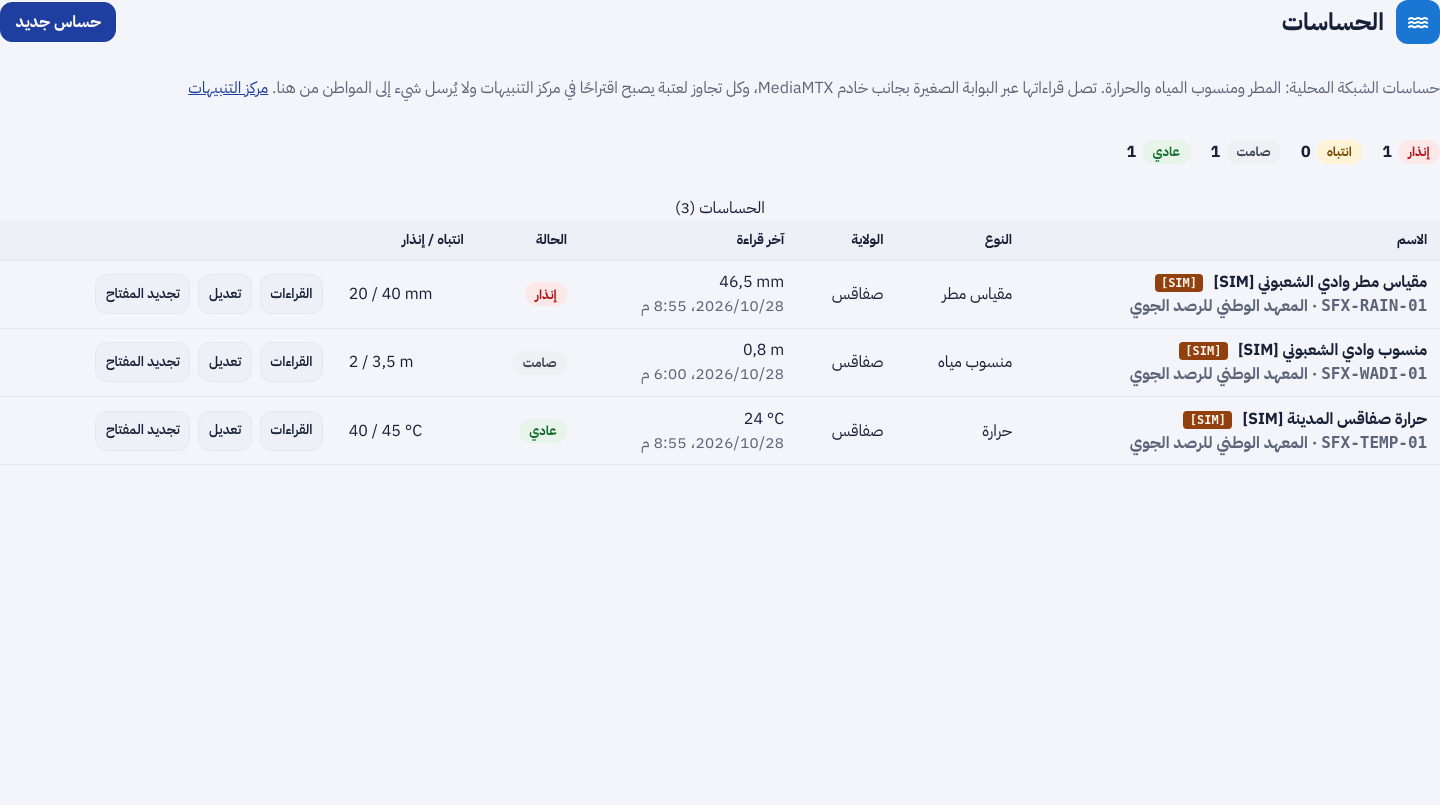
SensorsPage › refuses an alarm threshold below the watch threshold
Click the button "حساس جديد" at {"x": 58, "y": 22}, box 0,2 -> 116,42
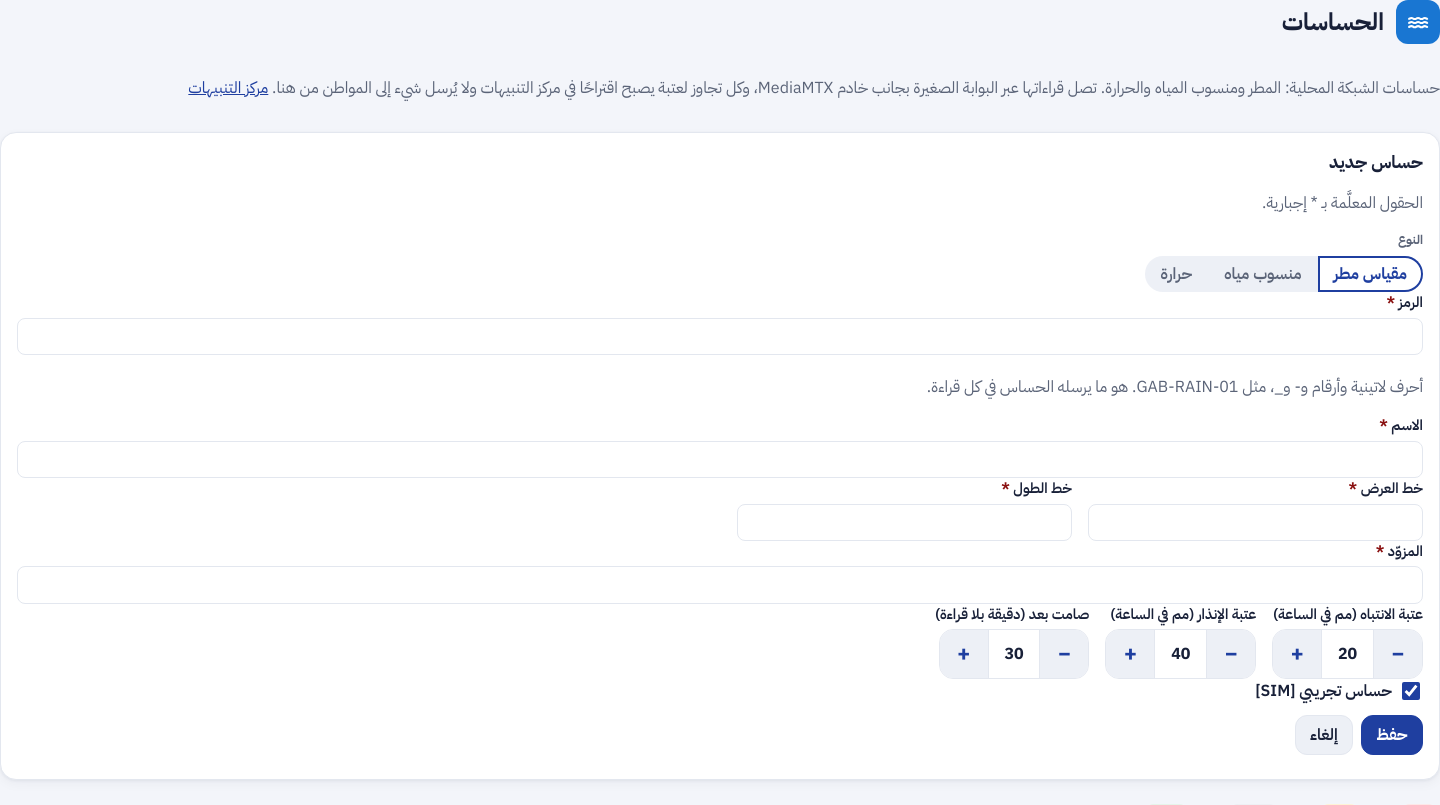
Type "SFX-R-9" into the field labelled "الرمز" at {"x": 720, "y": 337}, box 17,318 -> 1423,355
Type "مطر" into the field labelled "الاسم" at {"x": 720, "y": 460}, box 17,441 -> 1423,478
Type "34.7" into the field labelled "خط العرض" at {"x": 1256, "y": 522}, box 1088,504 -> 1423,541
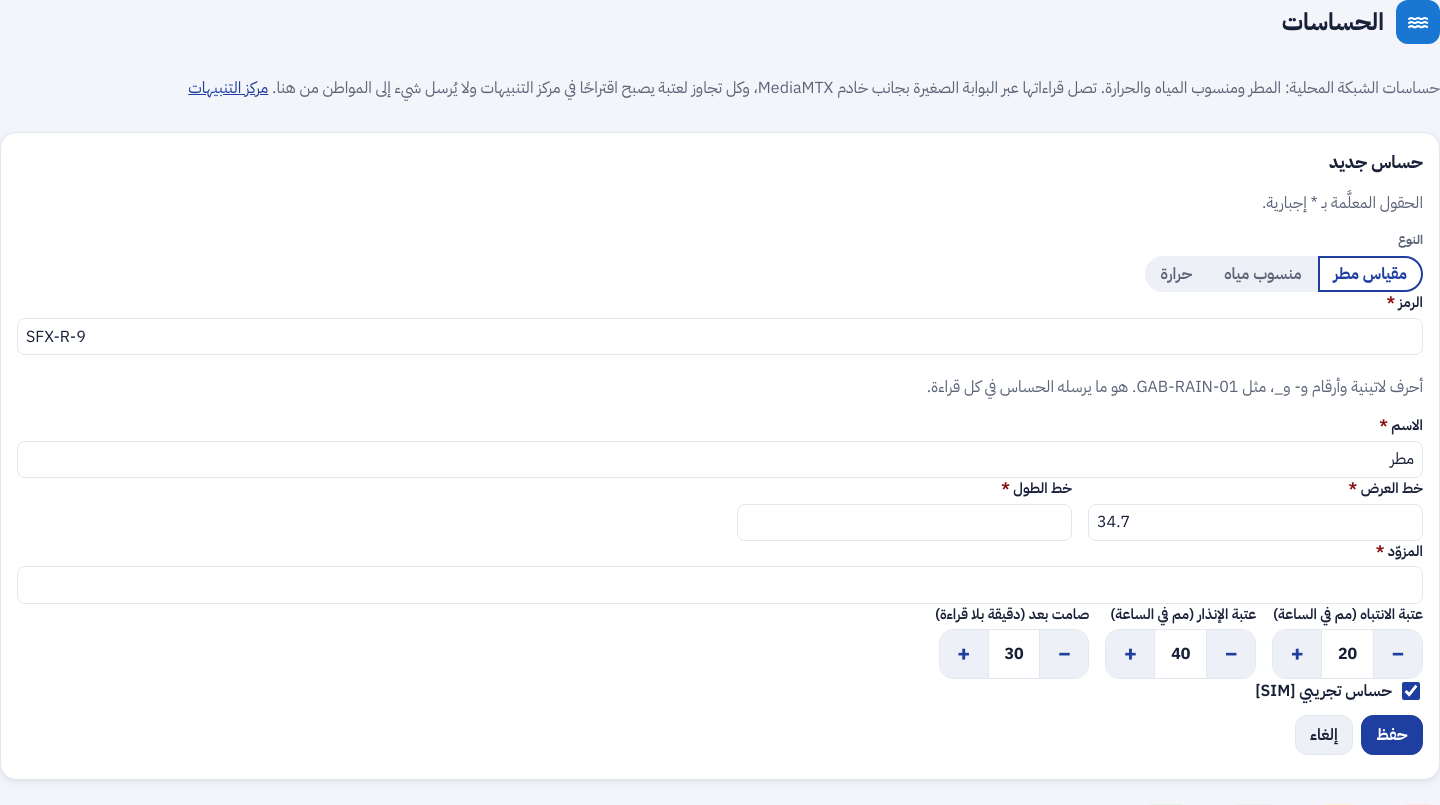
Type "10.7" into the field labelled "خط الطول" at {"x": 904, "y": 522}, box 737,504 -> 1072,541
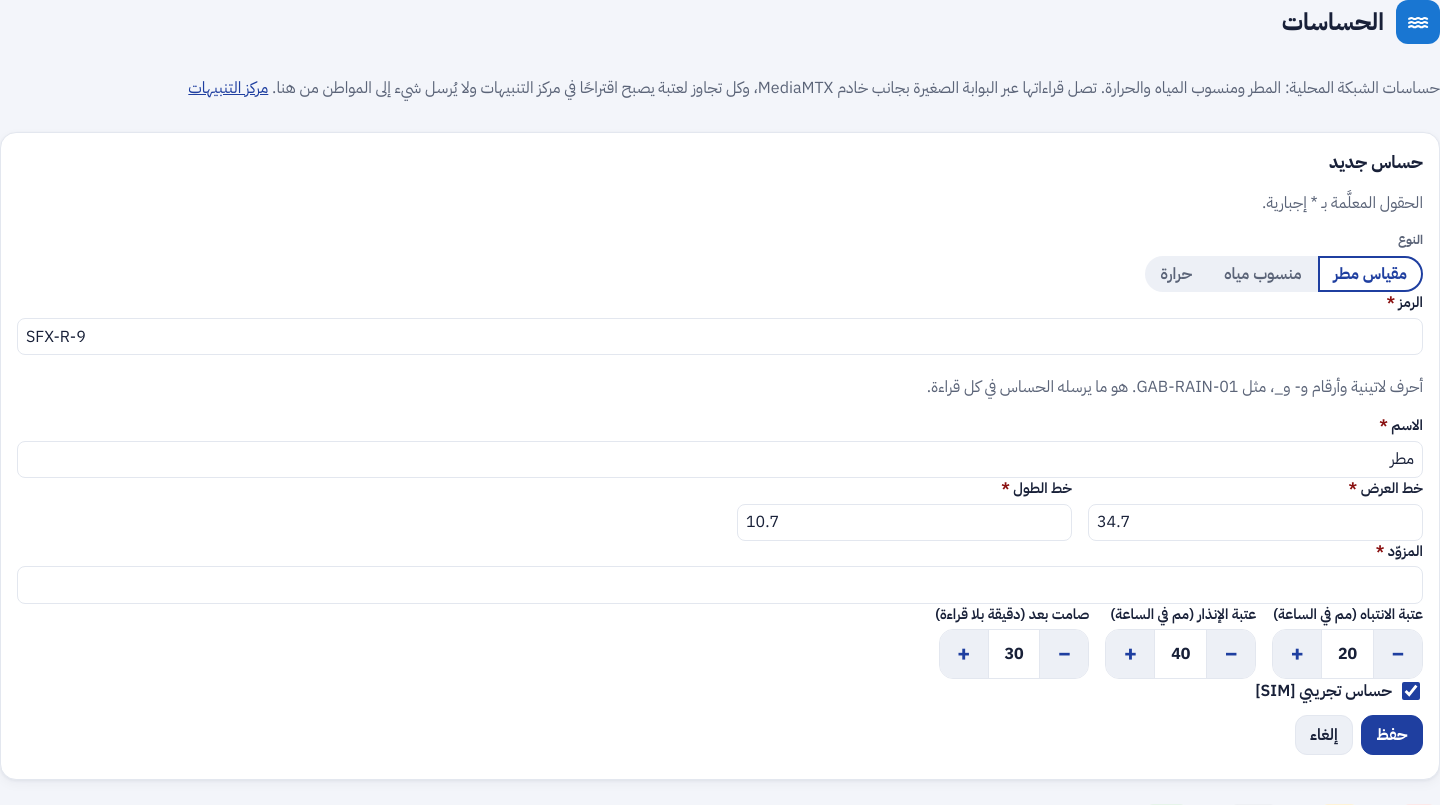
Type "الديوان" into the field labelled "المزوّد" at {"x": 720, "y": 585}, box 17,566 -> 1423,604
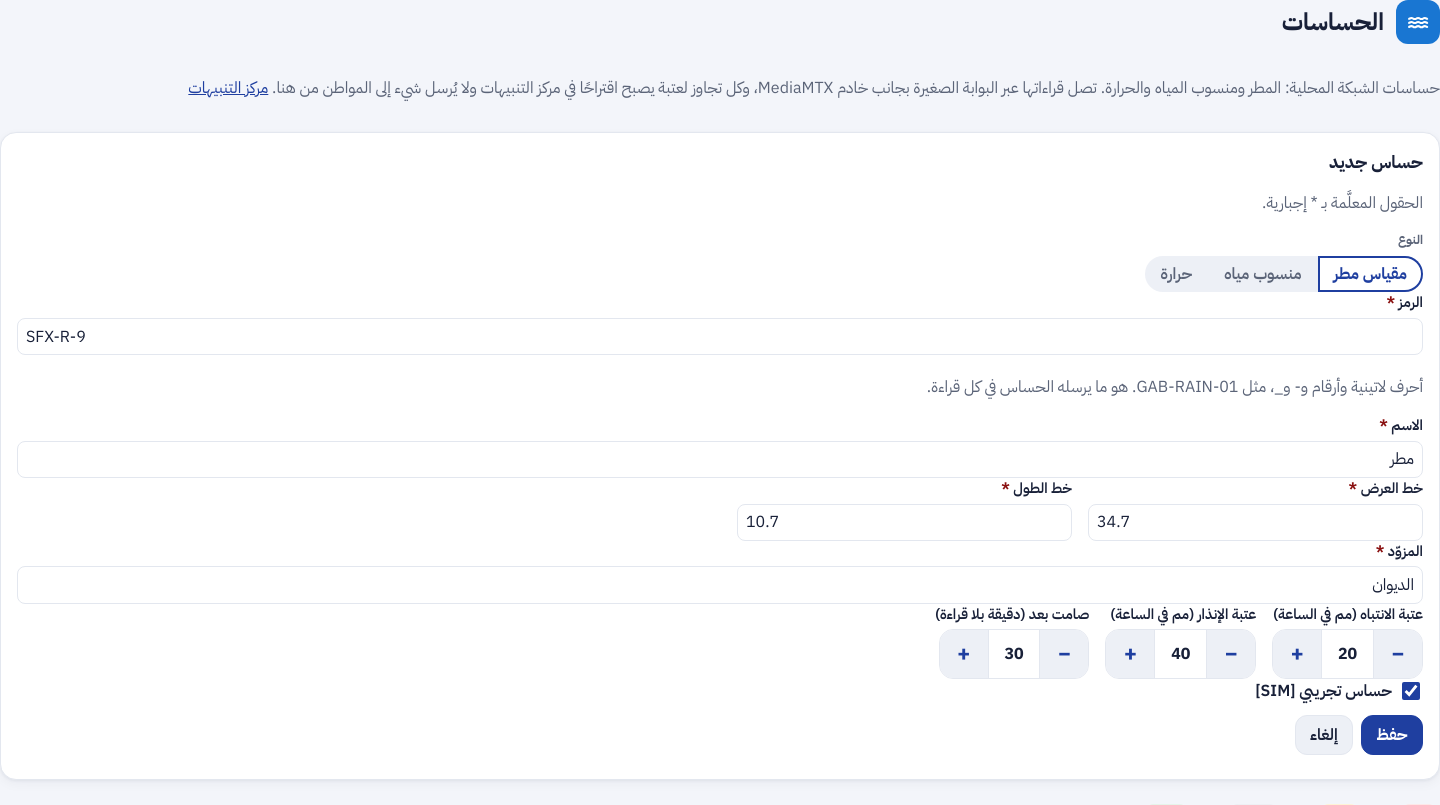
Replace the text in the number field labelled "عتبة الإنذار (مم في الساعة)" with "5" at {"x": 1181, "y": 654}, box 1154,630 -> 1207,678
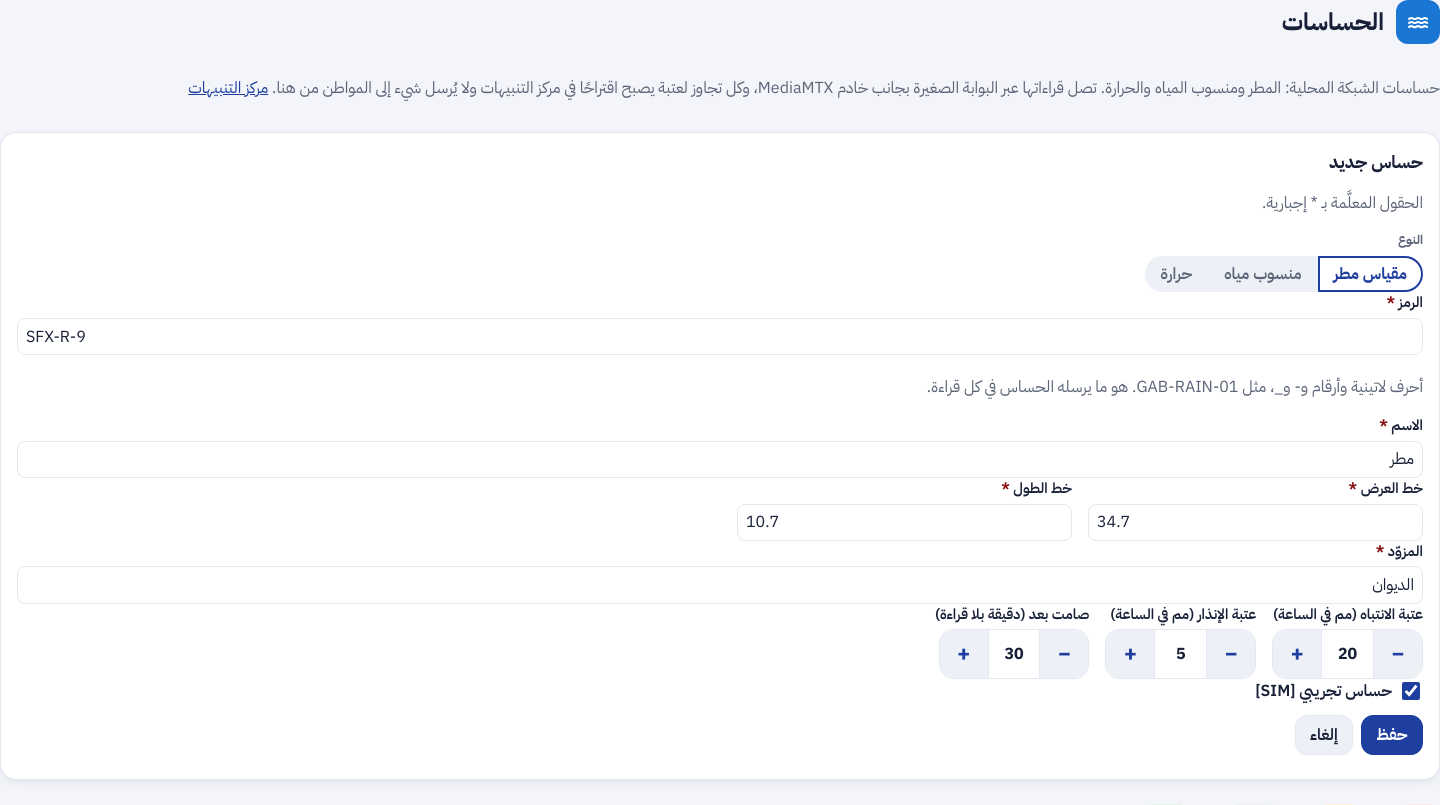
Click the button "حفظ" at {"x": 1392, "y": 735}, box 1361,715 -> 1423,755
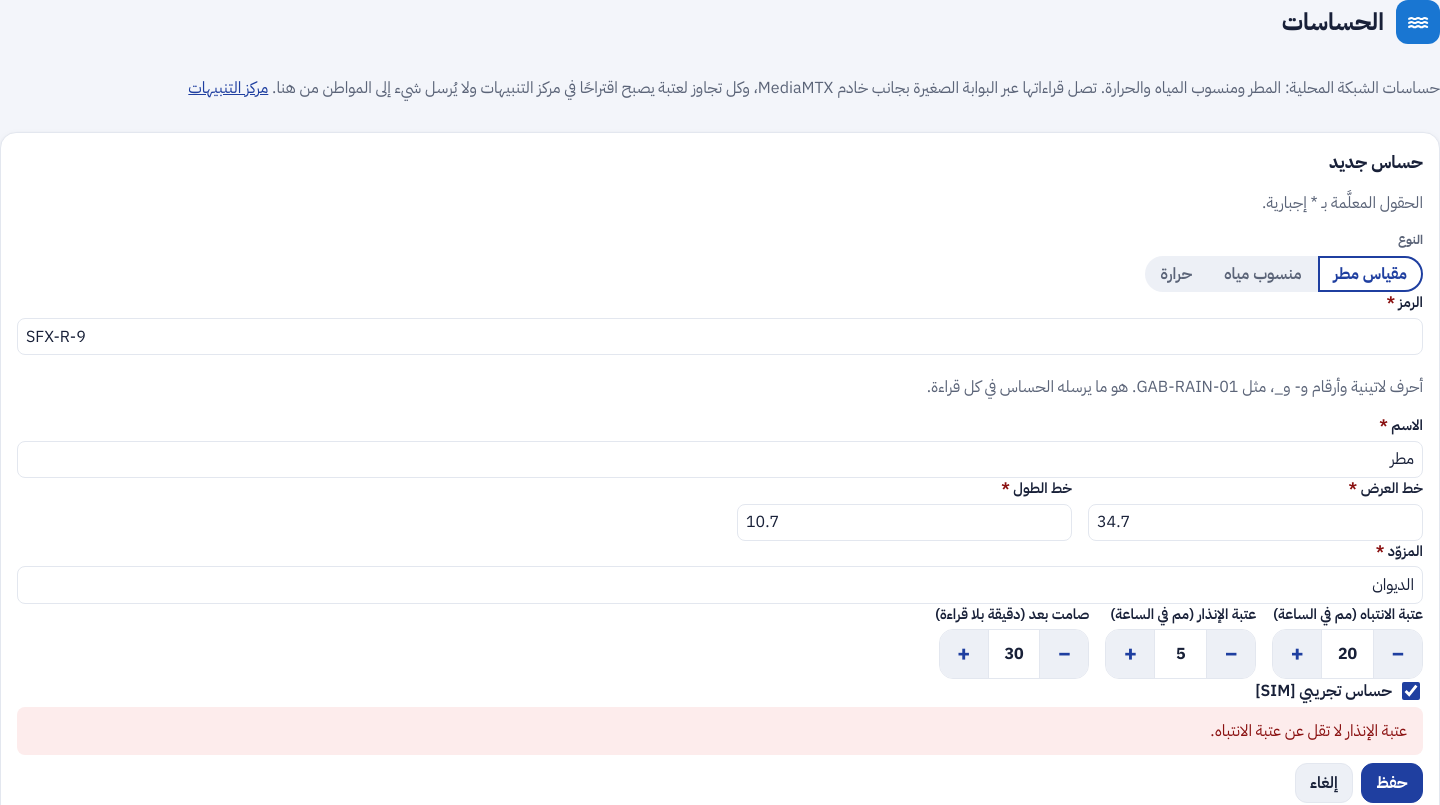
expect the message reads "عتبة الإنذار لا تقل عن عتبة الانتباه.": met, box 1210,719 -> 1407,743
